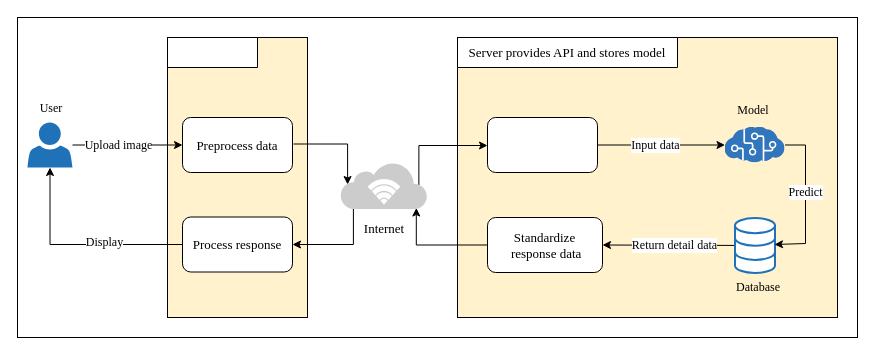
Some shapes in this 875 by 355 pixel diagram are drawn without their labels. The shapes that lost their labels are listed below. From the top down, each one's centre as x and y in pixels, then its label:
At [212,52]: "Website".
At [542,144]: "Preprocess input data".
